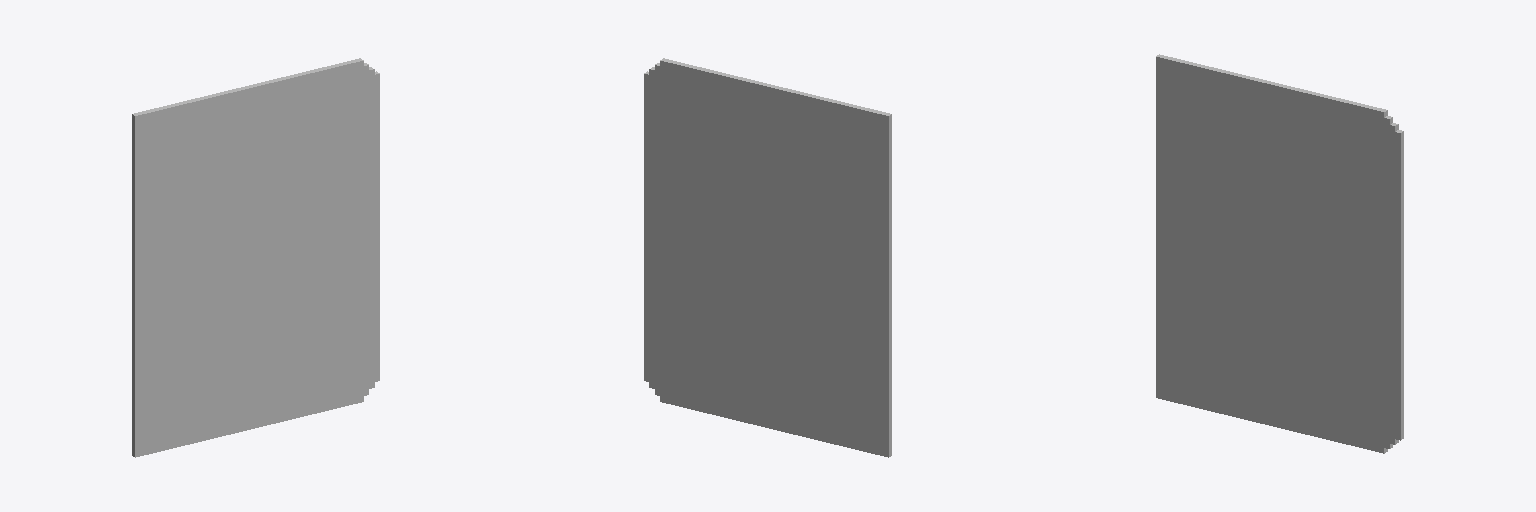
The model's file is Mirro__bath2.obj.
3 renders of one model, left to right at view 1: azimuth 30°, elevation 25°; view 2: azimuth 150°, elevation 25°; view 3: azimuth 330°, elevation 25°, orthographic.
Visible parts, largest first — view 1: Mirro__bath2; view 2: Mirro__bath2; view 3: Mirro__bath2.
Part boxes in pixels (bbox=[...]): Mirro__bath2: bbox=[132, 58, 379, 457]; Mirro__bath2: bbox=[644, 58, 891, 457]; Mirro__bath2: bbox=[1156, 54, 1403, 453].
Bounding box in the file's own units: 45 × 60 × 1.